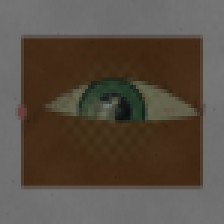corneal_ulcer: (78, 95, 125, 132)
